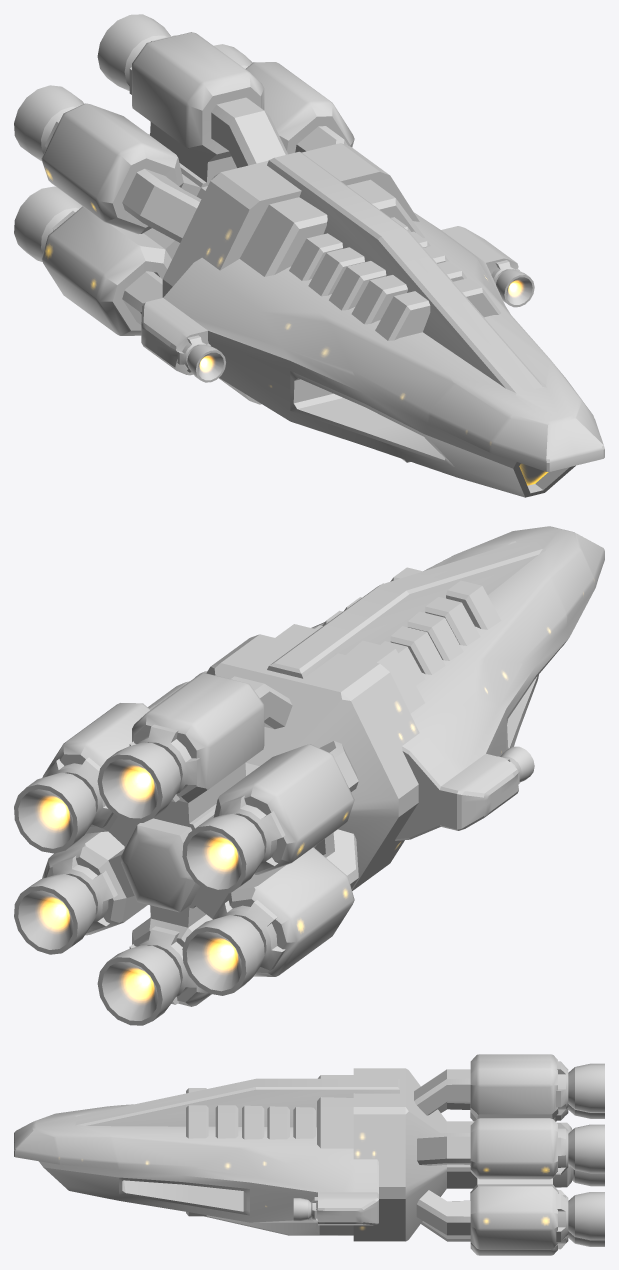
Rendered from Jupiter.fbx.
3 views of the same model, one above another, from view 1: azimuth 30°, elevation 25°; view 2: azimuth 150°, elevation 25°; view 3: azimuth 270°, elevation 25° (orthographic). The views are drawn at different scales.
Visible parts, largest first — view 1: Jupiter_LOD0; view 2: Jupiter_LOD0; view 3: Jupiter_LOD0.
Part boxes in pixels (<box>): Jupiter_LOD0: <box>14,14,604,497</box>; Jupiter_LOD0: <box>14,526,604,1025</box>; Jupiter_LOD0: <box>14,1054,604,1255</box>.
Size of what is drawn, in the model's own units: 15181 by 11963 by 34058.
